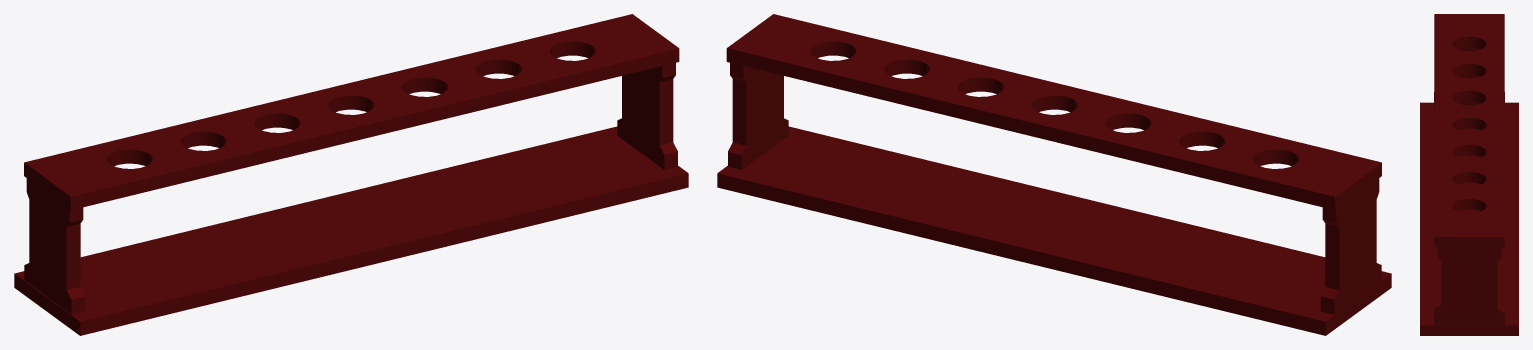
Rendered from Test_Tube_Rack.fbx.
3 renders of one model, left to right at view 1: azimuth 30°, elevation 25°; view 2: azimuth 150°, elevation 25°; view 3: azimuth 270°, elevation 25°, orthographic. The views are drawn at different scales.
Visible parts, largest first — view 1: Test_Tube_Rack; view 2: Test_Tube_Rack; view 3: Test_Tube_Rack.
Part boxes in pixels (bbox=[...]): Test_Tube_Rack: bbox=[14, 14, 688, 335]; Test_Tube_Rack: bbox=[717, 14, 1391, 335]; Test_Tube_Rack: bbox=[1420, 14, 1518, 335].
Size of the model in its own units: 2221 by 462 by 416.
